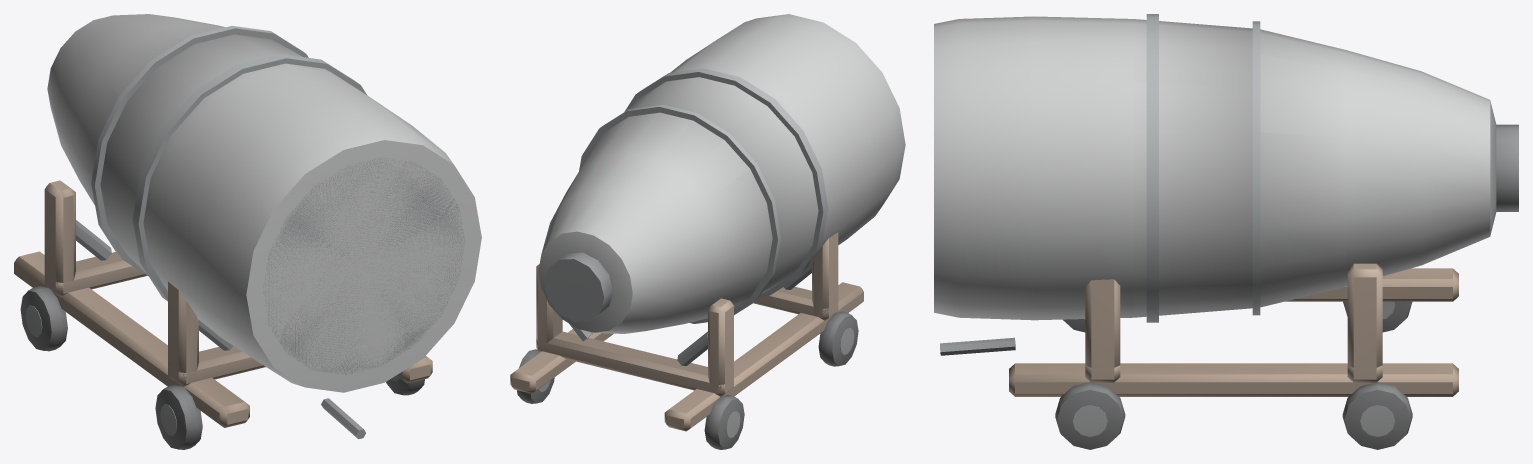
The model's file is engine.glb.
The picture shows the model from 3 angles, left to right: view 1: azimuth 30°, elevation 25°; view 2: azimuth 150°, elevation 25°; view 3: azimuth 270°, elevation 25°; orthographic projection. The views are drawn at different scales.
Visible parts, largest first — view 1: engine.001; view 2: engine.001; view 3: engine.001.
Part boxes in pixels (left/top/right/bottom): engine.001: left=14, top=14, right=481, bottom=449; engine.001: left=510, top=14, right=905, bottom=449; engine.001: left=934, top=14, right=1518, bottom=449.
Bounding box in the file's own units: 2.48 × 3.17 × 4.68.
